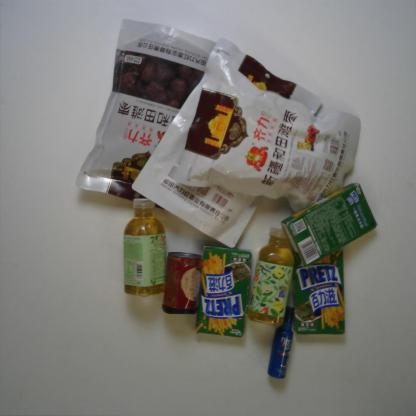Canned Food: (162, 252, 204, 314)
Dessert: (282, 183, 376, 267), (289, 229, 346, 335), (195, 246, 252, 338)
Dried Food: (131, 37, 322, 248), (77, 18, 248, 224), (175, 51, 361, 225)
Drink: (247, 224, 296, 328), (123, 198, 168, 297)
Personal Hygiene: (268, 304, 295, 379)
